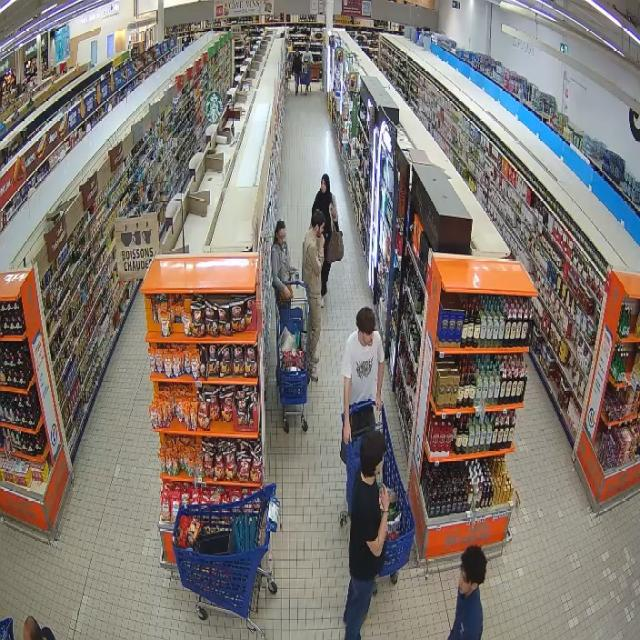bags: (326, 230, 343, 262)
hands: (380, 484, 389, 511), (342, 424, 353, 444), (284, 287, 292, 298)
person: (343, 429, 390, 639), (341, 307, 384, 461), (302, 210, 325, 380), (448, 546, 486, 639), (312, 174, 339, 304), (271, 220, 295, 301)
